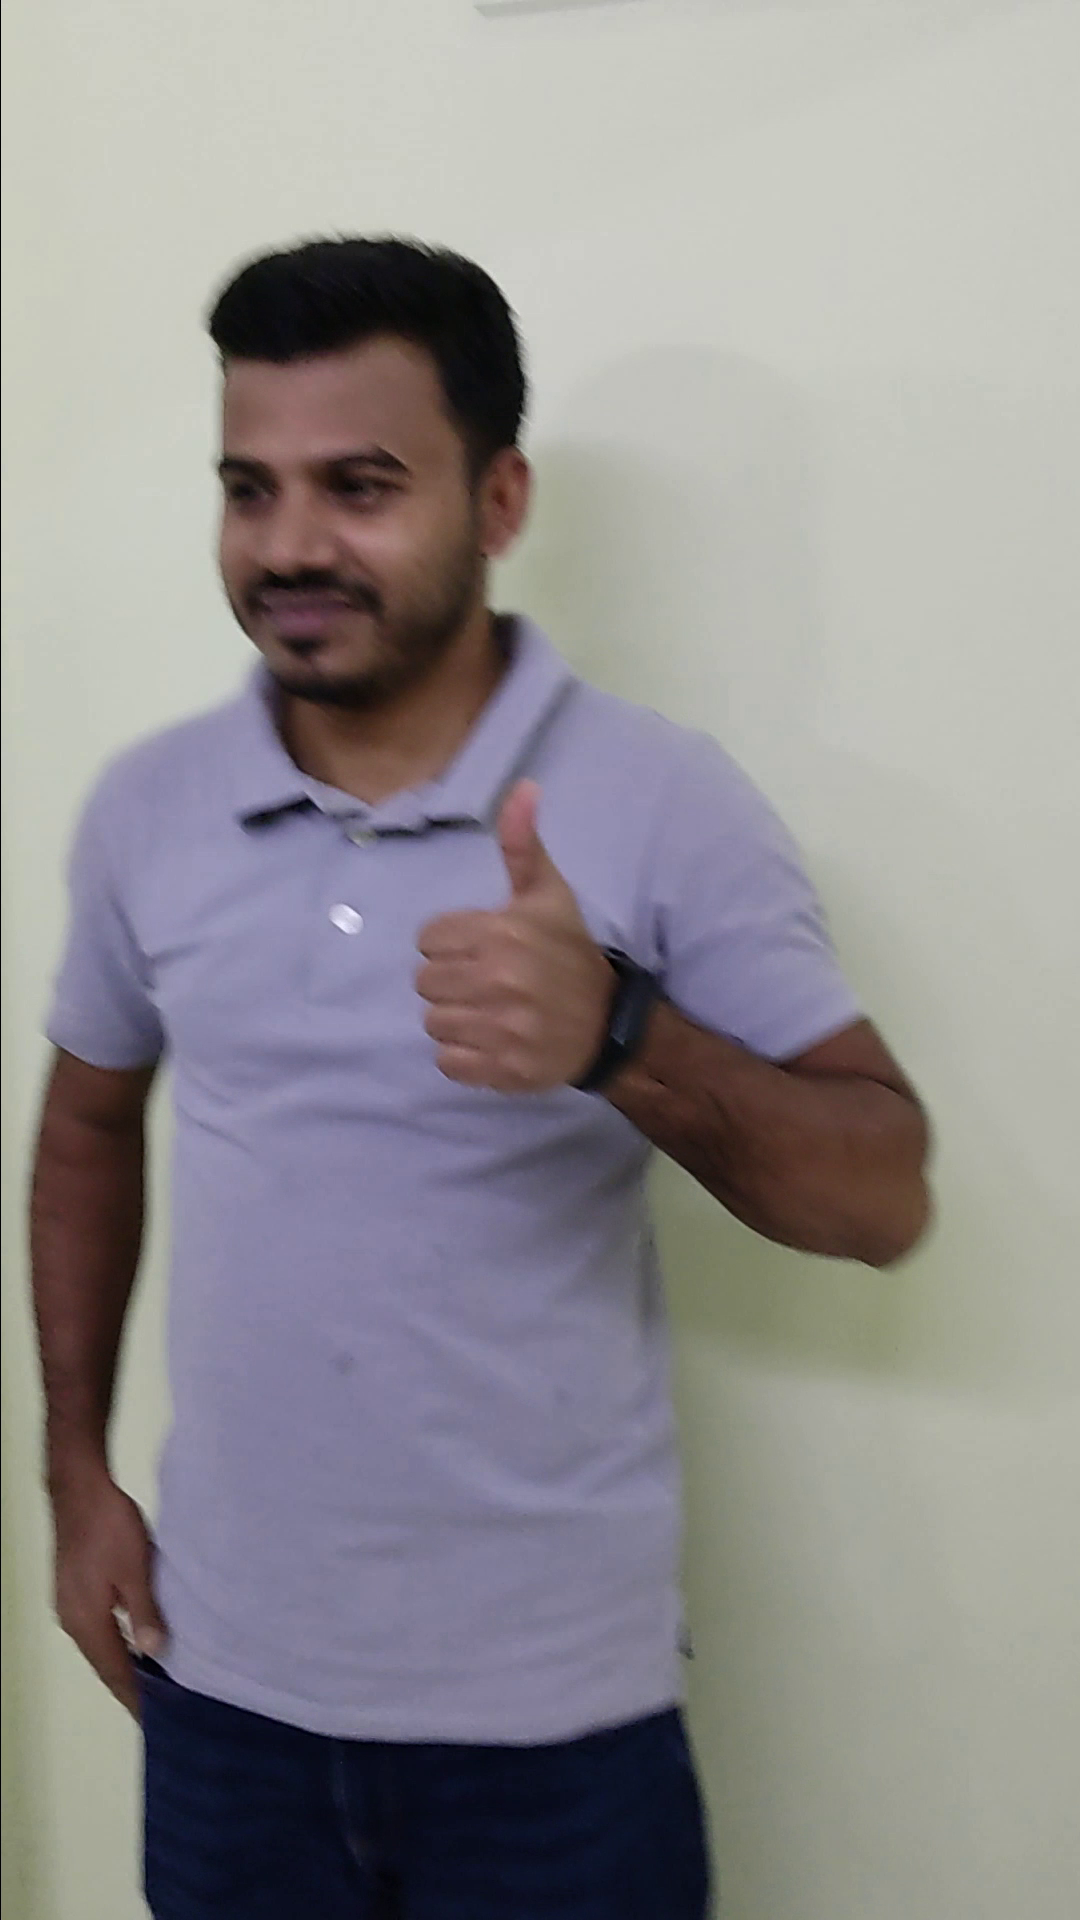Like: (392, 769, 632, 1110)
None: (40, 1447, 175, 1734)
